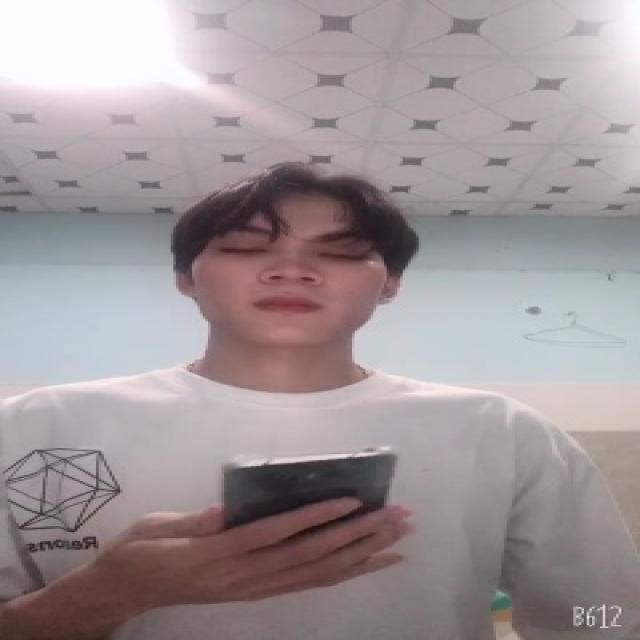Phone: (214, 443, 398, 536)
